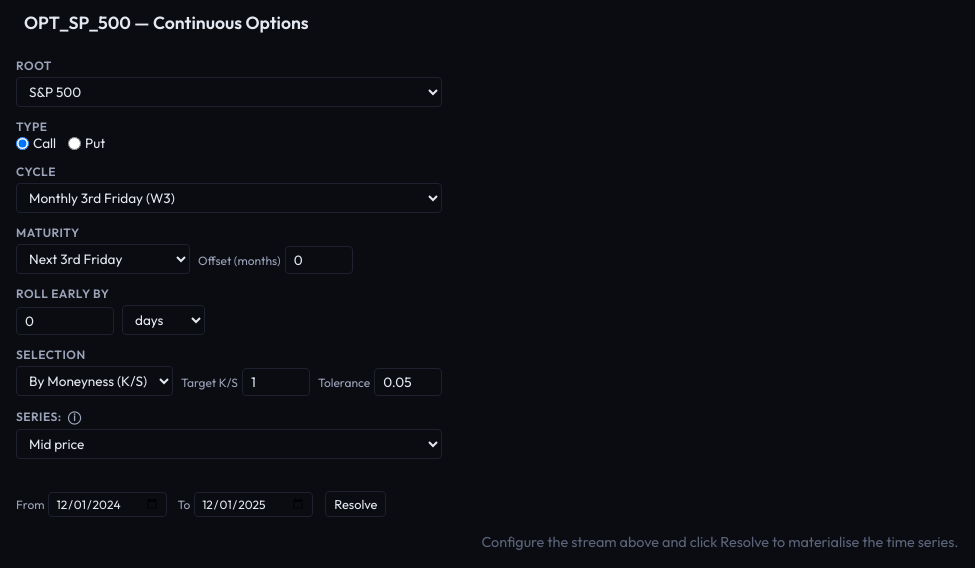
ContinuousOptionsChart — empty result › shows "No data" message when result has empty dates
This screenshot has width=975, height=568.
Click the button with test id "resolve-button".
click(356, 504)  # box 325,491 -> 386,517
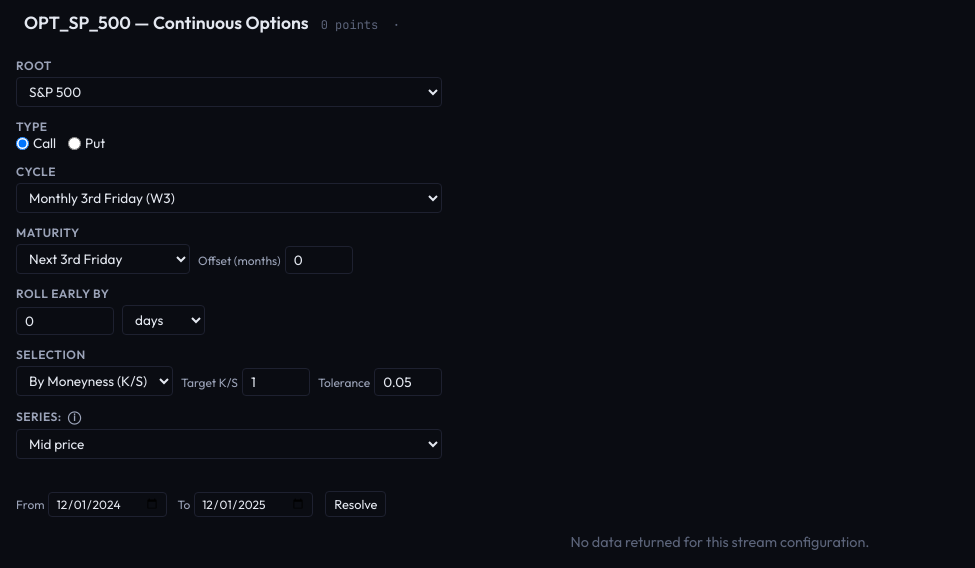
Expected: the text "No data returned for this stream configuration." is shown, 570,533 -> 870,551
